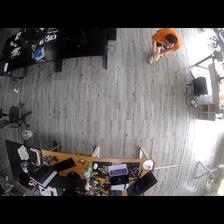normal: (147, 29, 182, 62)
